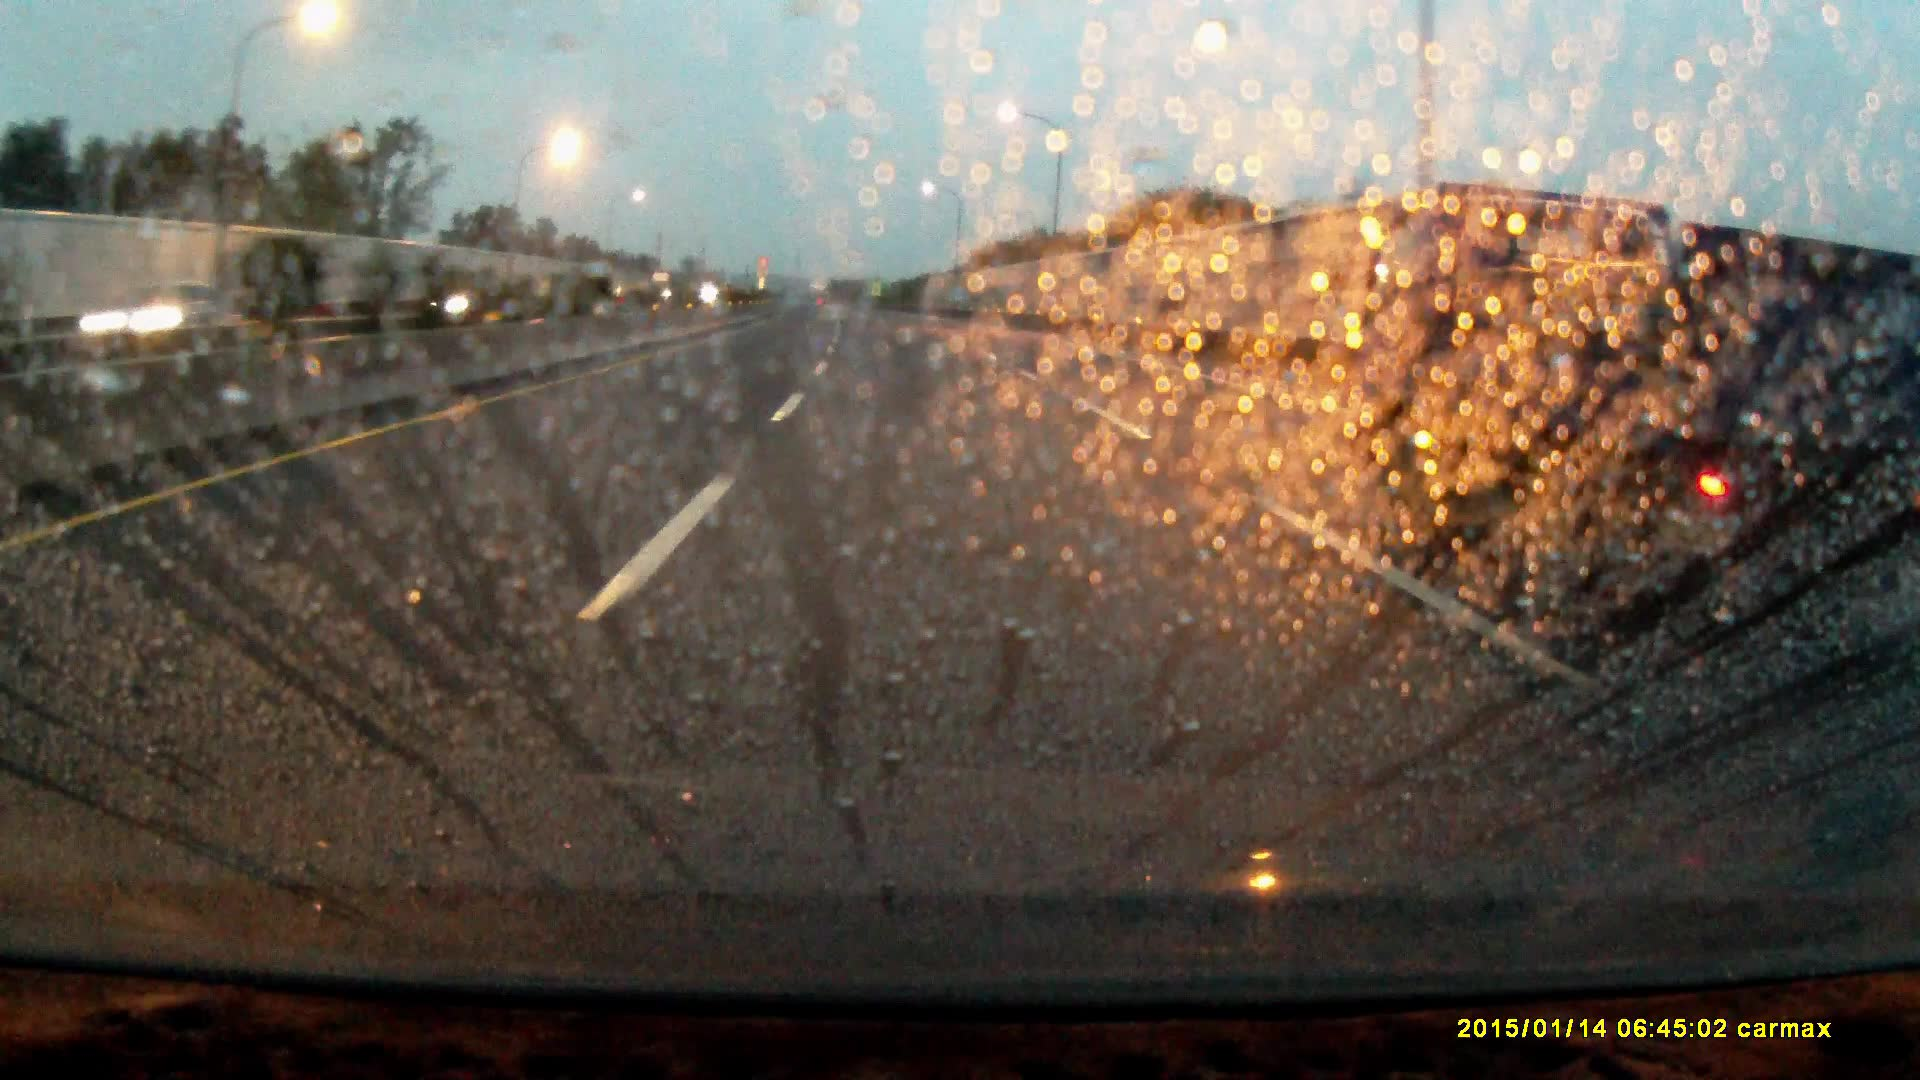vehicle: (1323, 186, 1915, 622), (76, 277, 231, 334), (427, 265, 506, 316), (651, 270, 676, 301)
